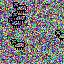sheep: (13, 2, 27, 14), (8, 16, 22, 28), (12, 12, 26, 23), (11, 39, 25, 50), (55, 30, 64, 41)
